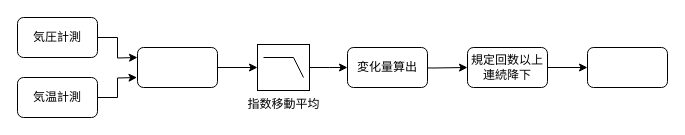
The diagram is 685 pixels wide and 135 high, and some of its shapes have lost their labels. The shapes that lost their labels are listed below. From the top down, each one's box as (x1, y1, x2, y2) in pixels, then its label:
(136, 46, 218, 88): 高度算出
(586, 46, 668, 88): 頂点検知
